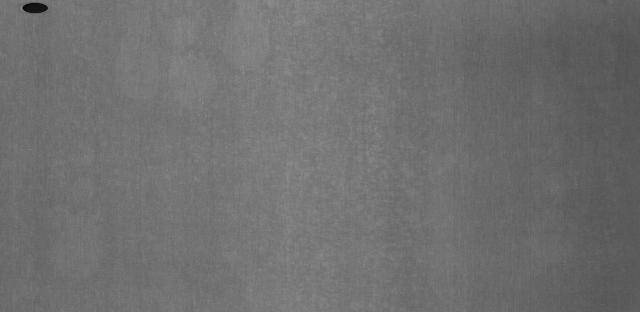punching_hole: (19, 0, 49, 15)
